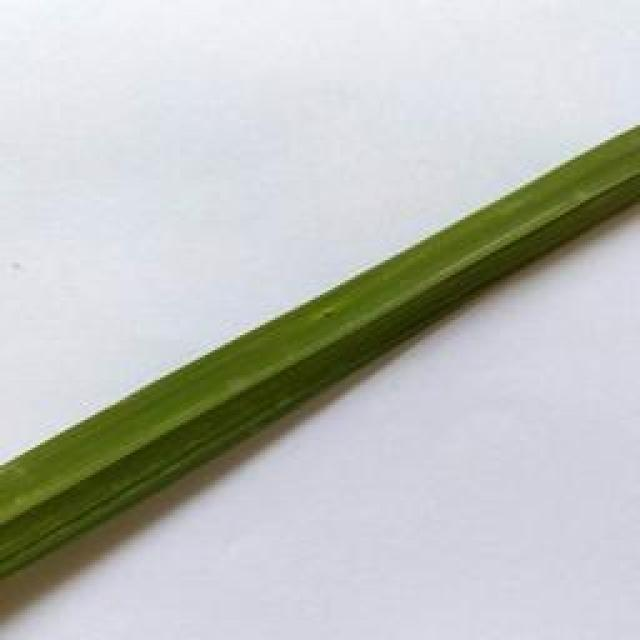Healthy-Plant: (0, 119, 640, 576)
